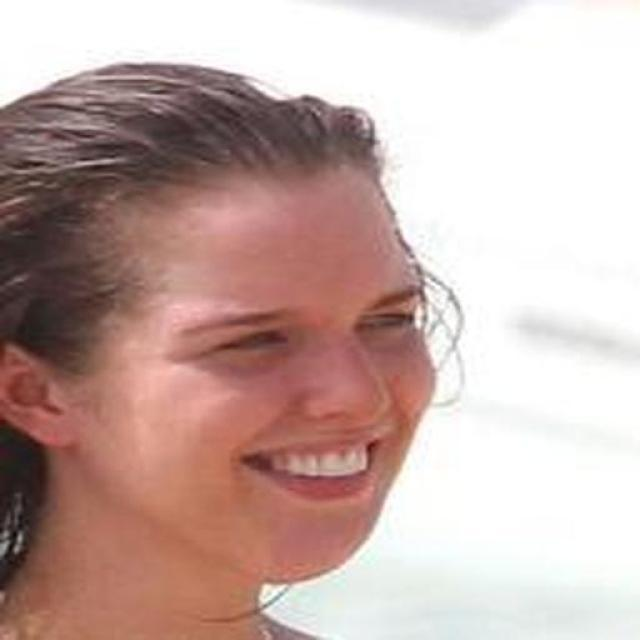bareface: (0, 61, 430, 556)
